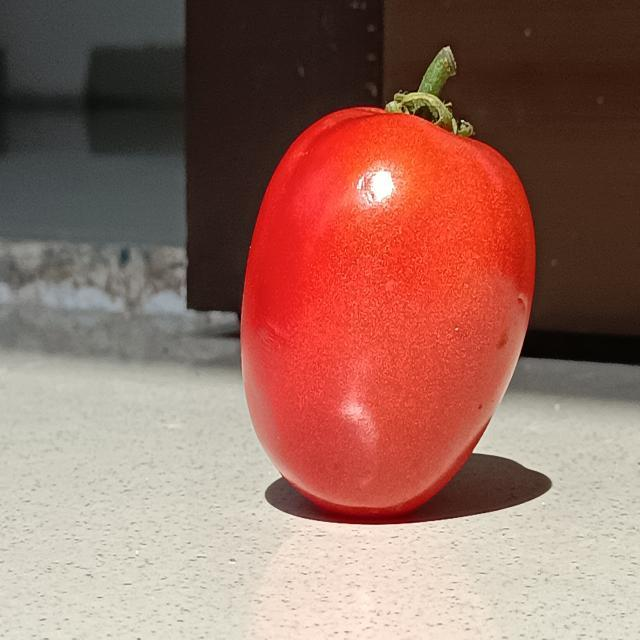Masak: (177, 48, 588, 542)
